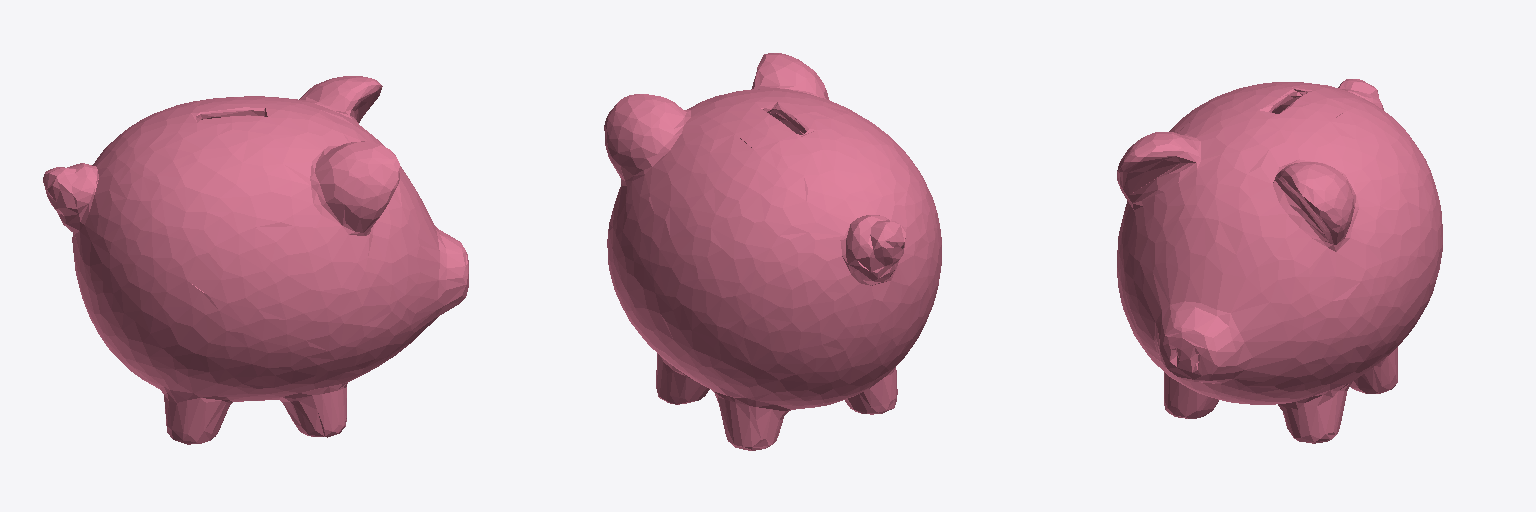
The model's file is Piggy Bank.obj.
The picture shows the model from 3 angles: view 1: azimuth 30°, elevation 25°; view 2: azimuth 150°, elevation 25°; view 3: azimuth 270°, elevation 25°; orthographic projection.
Visible parts, largest first — view 1: Piggy.2; view 2: Piggy.2; view 3: Piggy.2.
Boxes of the visible parts, box(x1,y1,x2,y2) form: Piggy.2: box(43, 76, 468, 444); Piggy.2: box(604, 53, 941, 450); Piggy.2: box(1117, 79, 1442, 443).
Size of the model in its own units: 291 by 236 by 239.